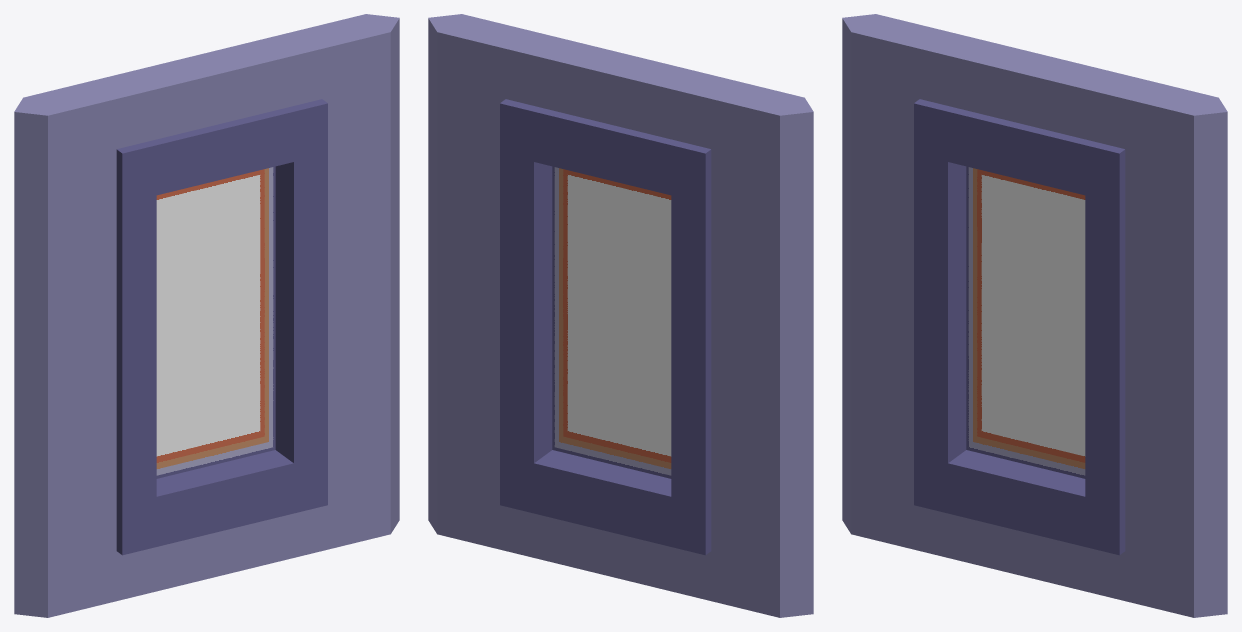
Rendered from birthday.dae.
3 renders of one model, left to right at view 1: azimuth 30°, elevation 25°; view 2: azimuth 150°, elevation 25°; view 3: azimuth 330°, elevation 25°, orthographic.
Parts seen in each view (by area): view 1: window_closed; view 2: window_closed; view 3: window_closed.
Boxes of the visible parts, x1,y1,x2,y2 form: window_closed: [14, 14, 399, 617]; window_closed: [428, 14, 813, 617]; window_closed: [842, 14, 1227, 617].
Size of the model in its own units: 1.12 by 1.4 by 0.185.
Materials: 1 (1 with a texture image).
